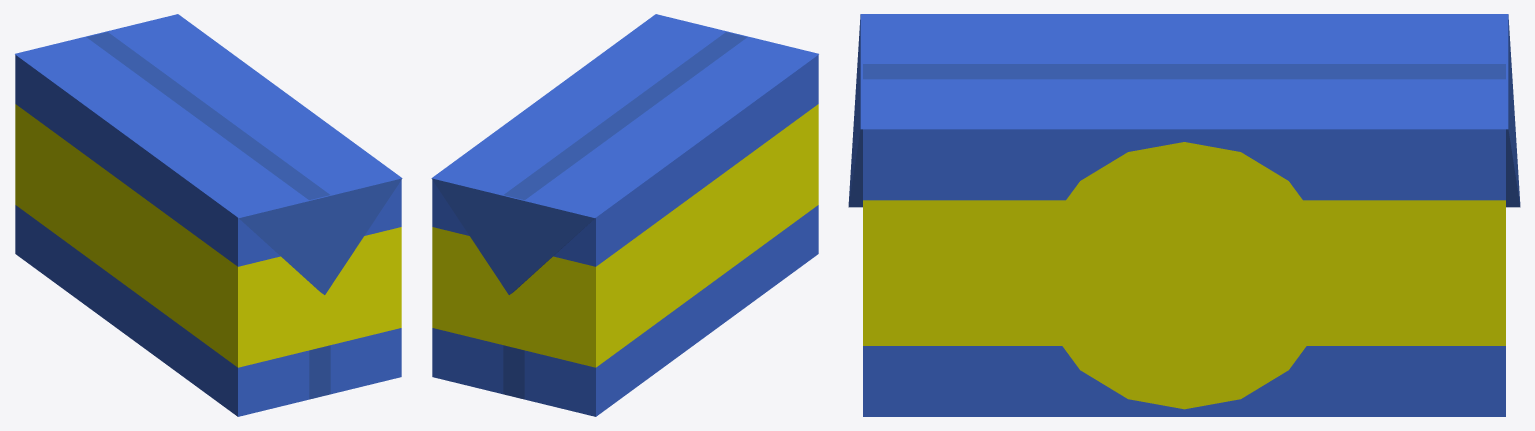
The model's file is Butter.fbx.
The picture shows the model from 3 angles, left to right: view 1: azimuth 30°, elevation 25°; view 2: azimuth 150°, elevation 25°; view 3: azimuth 270°, elevation 25°; orthographic projection. The views are drawn at different scales.
Visible parts, largest first — view 1: ButterMesh; view 2: ButterMesh; view 3: ButterMesh.
Boxes of the visible parts, <box> form: ButterMesh: <box>15,14,402,416</box>; ButterMesh: <box>431,14,818,416</box>; ButterMesh: <box>848,14,1520,416</box>.
Bounding box in the file's own units: 0.2137 × 0.2469 × 0.5228.
